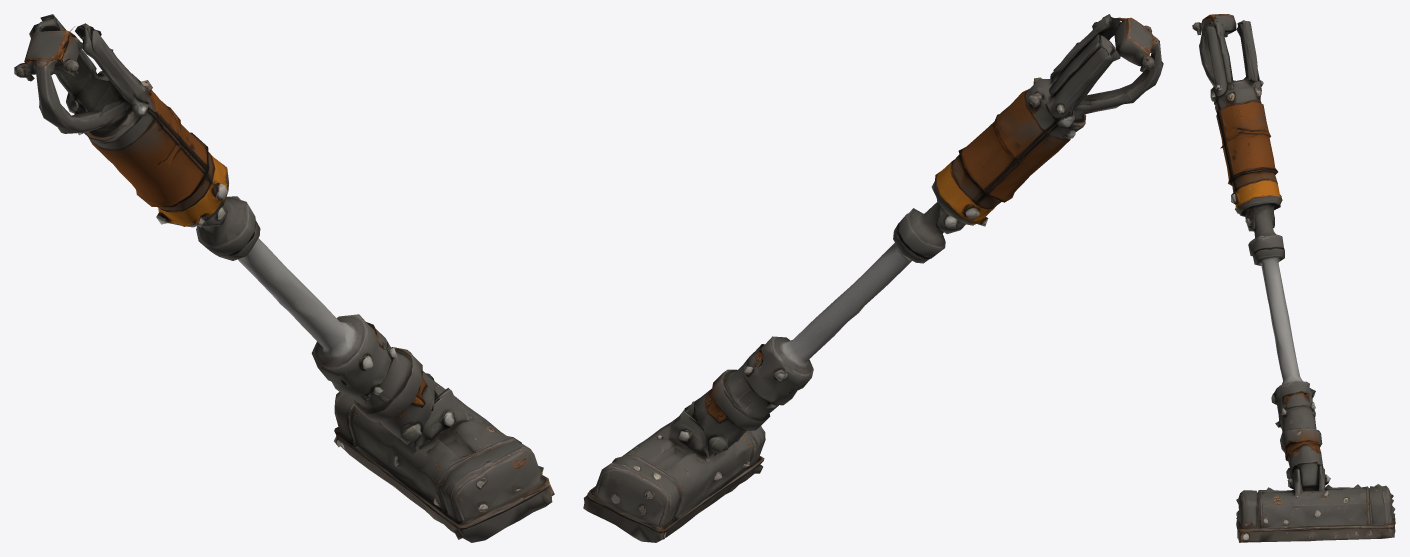
File: held_vacuum.glb
The picture shows the model from 3 angles, left to right: view 1: azimuth 30°, elevation 25°; view 2: azimuth 150°, elevation 25°; view 3: azimuth 270°, elevation 25°; orthographic projection. The views are drawn at different scales.
Parts seen in each view (by area): view 1: tripo_node_d6fc7ba0-10df-424e-b500-996573c5abda; view 2: tripo_node_d6fc7ba0-10df-424e-b500-996573c5abda; view 3: tripo_node_d6fc7ba0-10df-424e-b500-996573c5abda.
Part boxes in pixels (box(x1,y1,x2,y2)): tripo_node_d6fc7ba0-10df-424e-b500-996573c5abda: box(14, 14, 554, 542); tripo_node_d6fc7ba0-10df-424e-b500-996573c5abda: box(583, 14, 1163, 542); tripo_node_d6fc7ba0-10df-424e-b500-996573c5abda: box(1192, 14, 1395, 542).
Size of the model in its own units: 0.9144 by 1 by 0.4738.
1 material, 1 textured.
